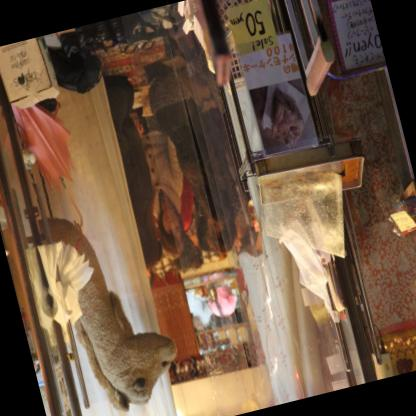Animal: (44, 193, 188, 416)
